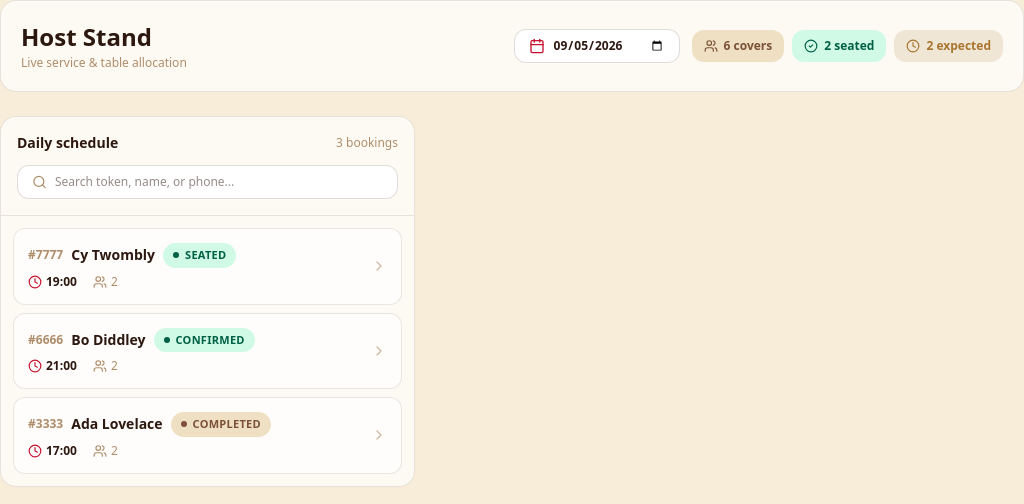
Test: HostStandDashboardPage search › shows the matched count against the day total while filtering
Expected: the text "3 bookings" is shown, left=336, top=135, right=398, bottom=151
Type "twombly" into the field with placeholder "Search token, name, or phone..." at point(219, 182), box left=55, top=174, right=383, bottom=190
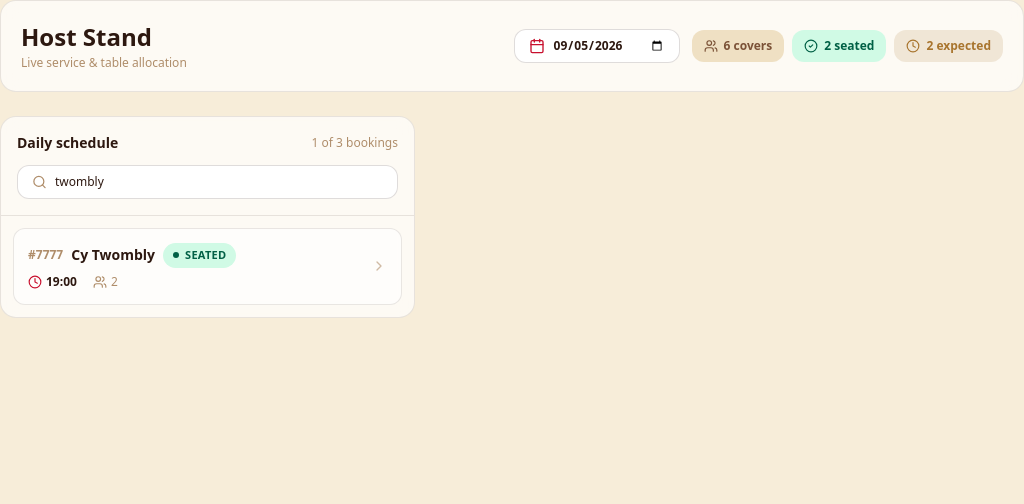
Now the text "1 of 3 bookings" is shown, box left=312, top=135, right=398, bottom=151
